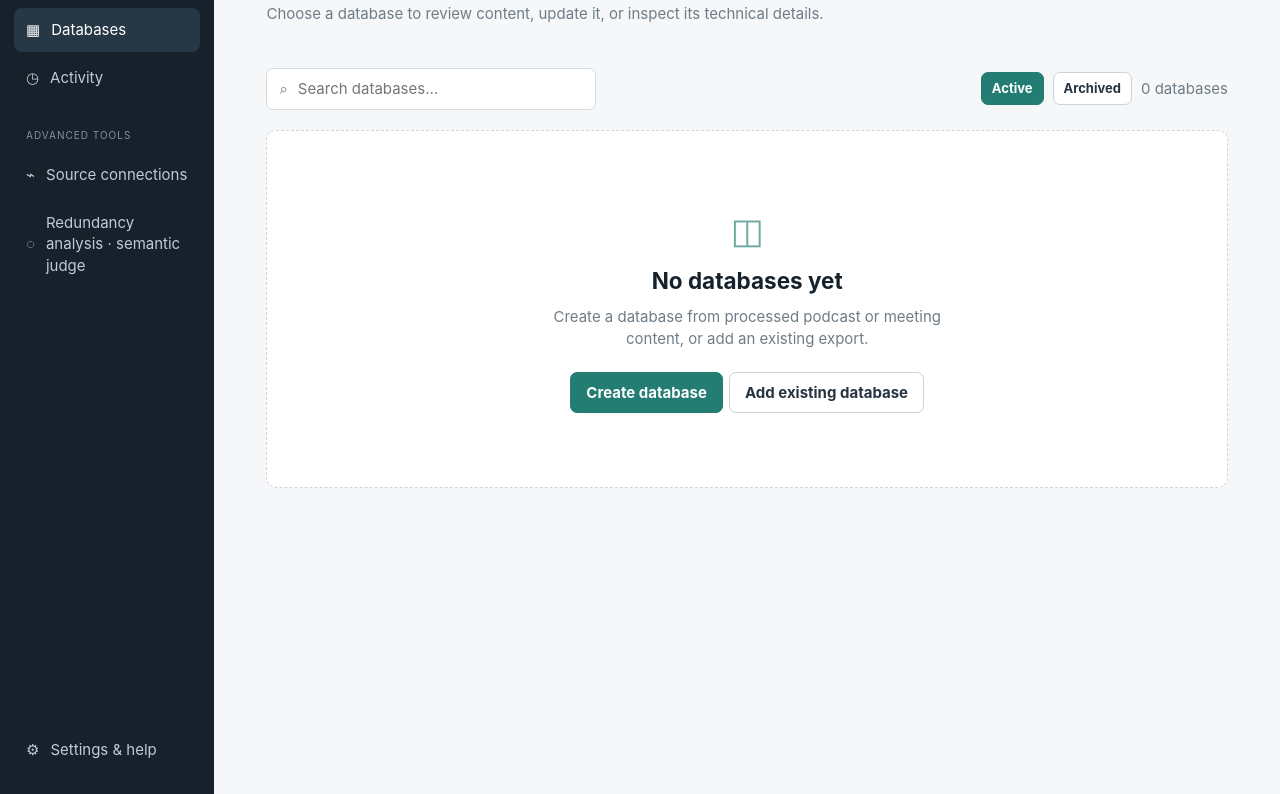
modern database creation flow › offers an explicit supported launcher repair command
This screenshot has width=1280, height=794.
Expected: the heading "No databases yet" is shown, [652,267,843,294]
Click the button "⚙ Settings & help" at (107, 750), box [14,728,200,772]
(page scrolled)
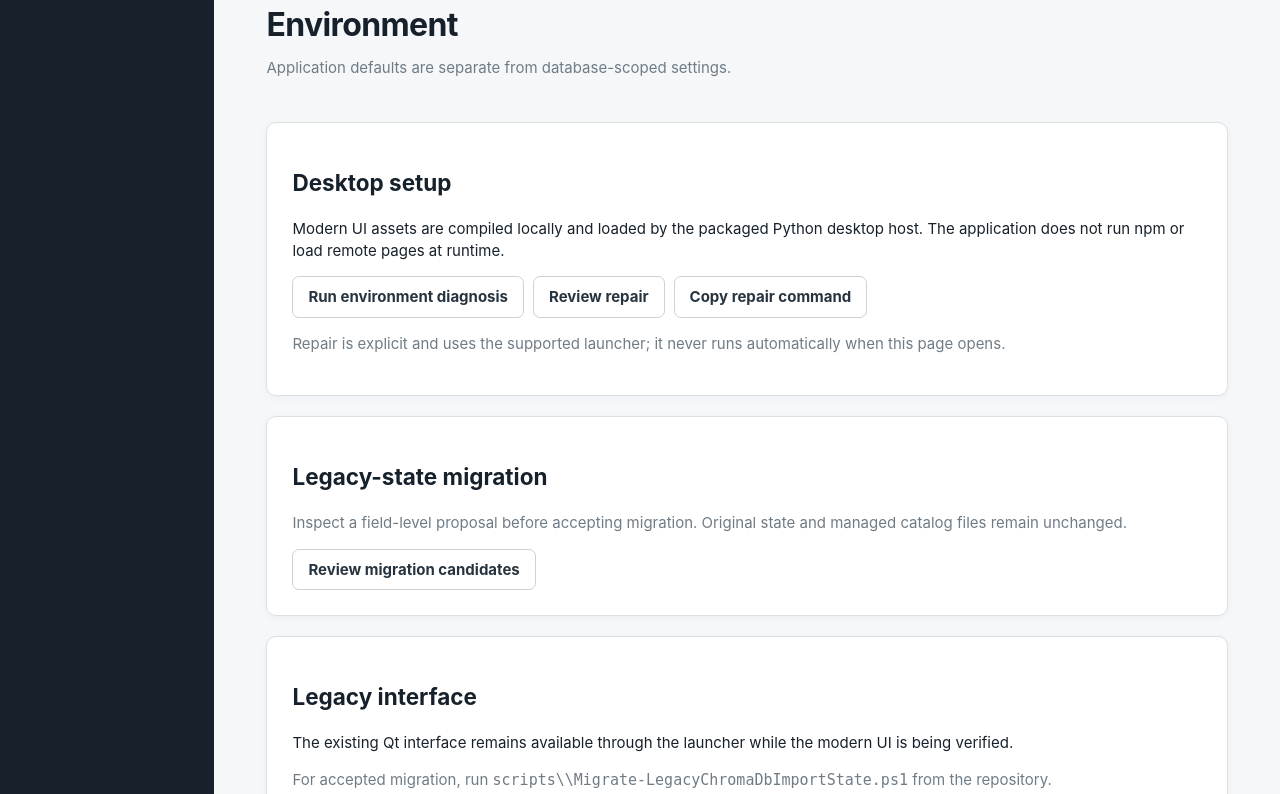
Expected: the button "Copy repair command" is shown, [674,276,867,318]
Expected: the text "Repair is explicit and uses the supported launcher" is shown, [292,334,1006,353]
